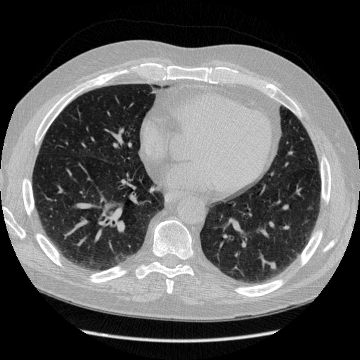nodule: (270, 262, 276, 268)
